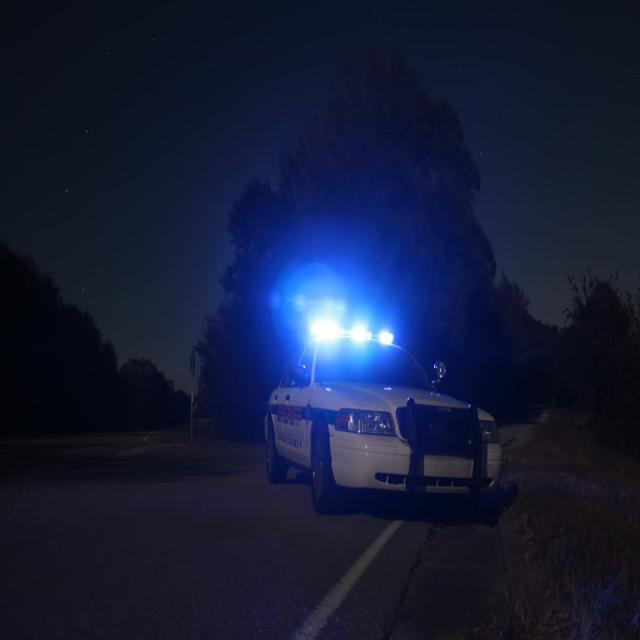car: (261, 284, 524, 520)
